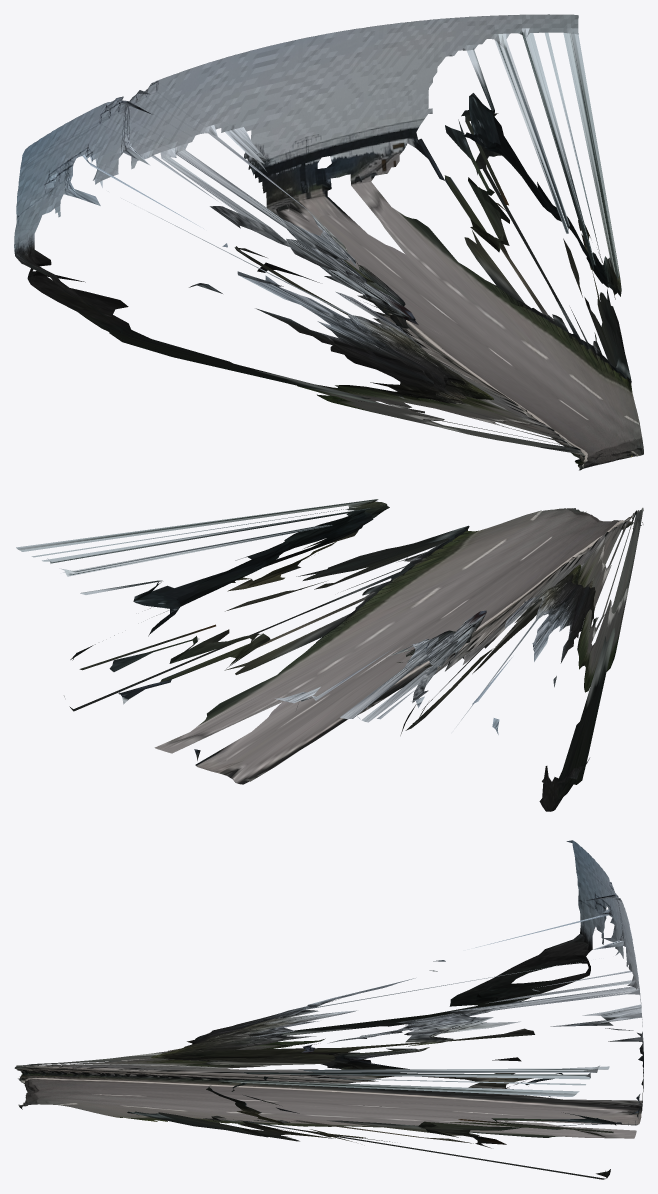
3 renders of one model, top to bottom at view 1: azimuth 30°, elevation 25°; view 2: azimuth 150°, elevation 25°; view 3: azimuth 270°, elevation 25°, orthographic. The views are drawn at different scales.
Visible parts, largest first — view 1: defaultobject; view 2: defaultobject; view 3: defaultobject.
Boxes of the visible parts, left/top/right/bottom form: defaultobject: left=14, top=14, right=643, bottom=470; defaultobject: left=16, top=499, right=643, bottom=811; defaultobject: left=14, top=840, right=643, bottom=1179.
Bounding box in the file's own units: 40.91 × 12.37 × 44.89.
1 material, 1 textured.
